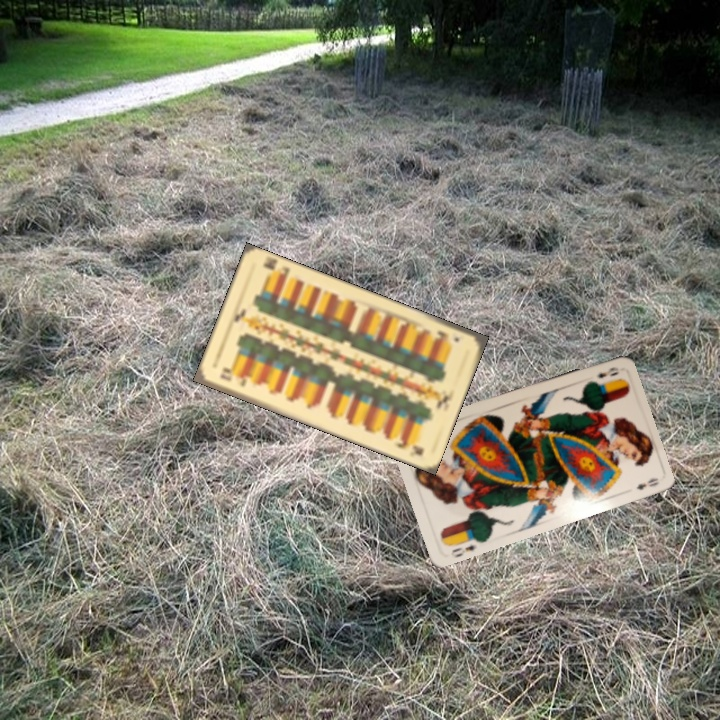E10: (216, 366, 249, 389), (431, 327, 462, 344)
EO: (448, 533, 481, 557), (593, 362, 621, 381)
